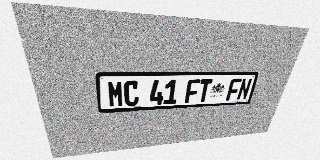1: (163, 79, 179, 104)
4: (150, 80, 165, 105)
C: (124, 80, 139, 107)
F: (226, 78, 242, 101), (185, 79, 200, 103)
M: (107, 80, 124, 107)
N: (236, 78, 253, 100)
T: (197, 79, 213, 102)
